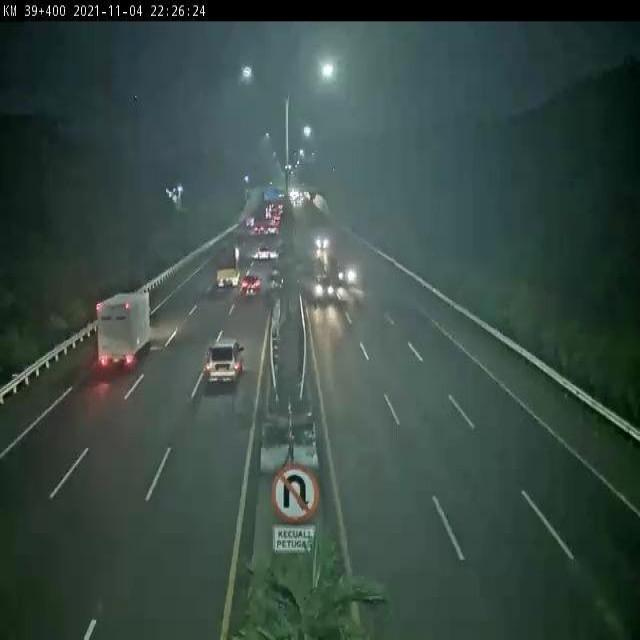car: (207, 340, 242, 385), (314, 273, 334, 299), (240, 276, 262, 295), (338, 264, 356, 284), (314, 233, 329, 250), (258, 247, 271, 260)
truck-m-: (98, 291, 153, 368), (215, 248, 240, 287)
